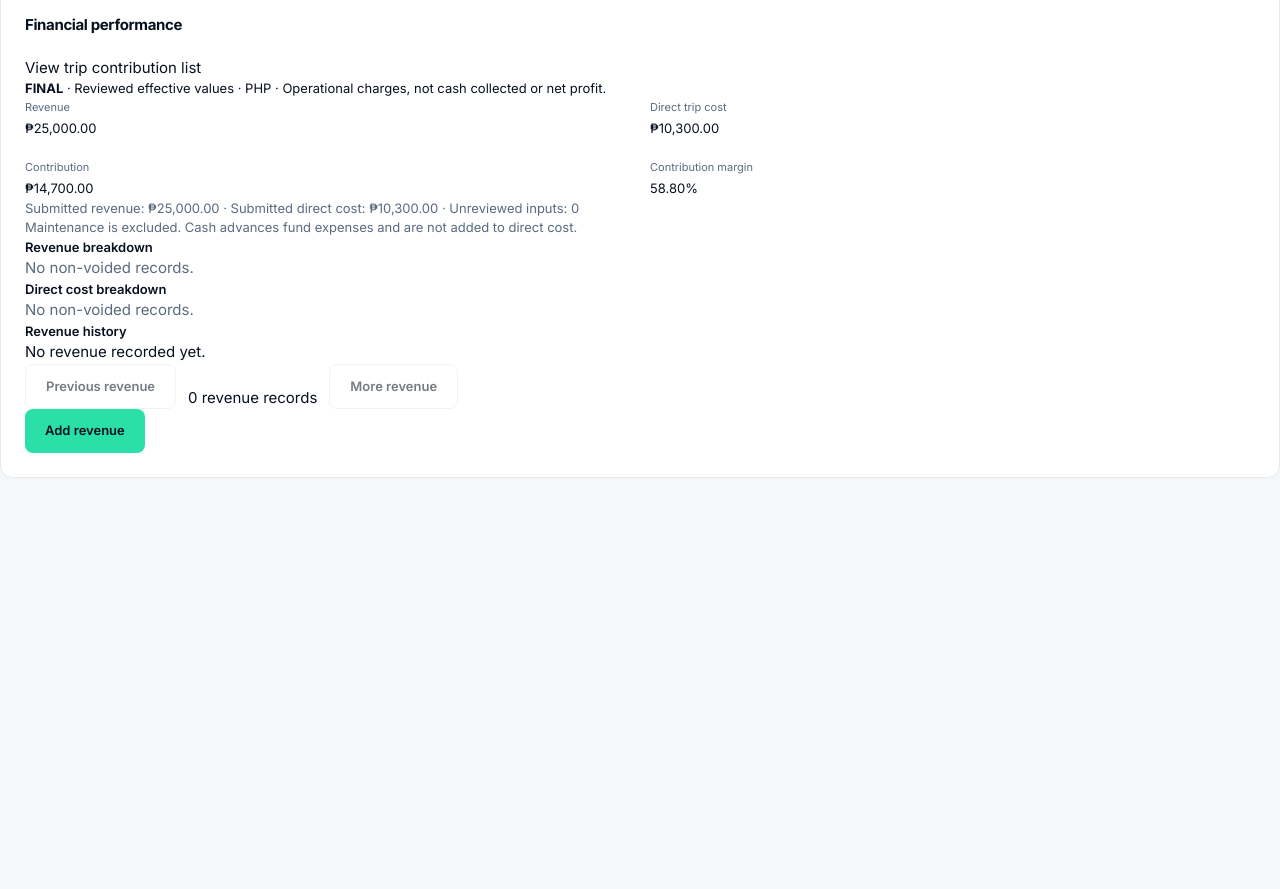
Test: server-authoritative trip contribution › validates revenue locally while preserving the approved form
The width and height of the screenshot is (1280, 889).
expect the text "No revenue recorded yet." is shown: met, box [25, 342, 206, 361]
Step 1. Click the button "Add revenue" → (85,431), box [25, 409, 145, 453]
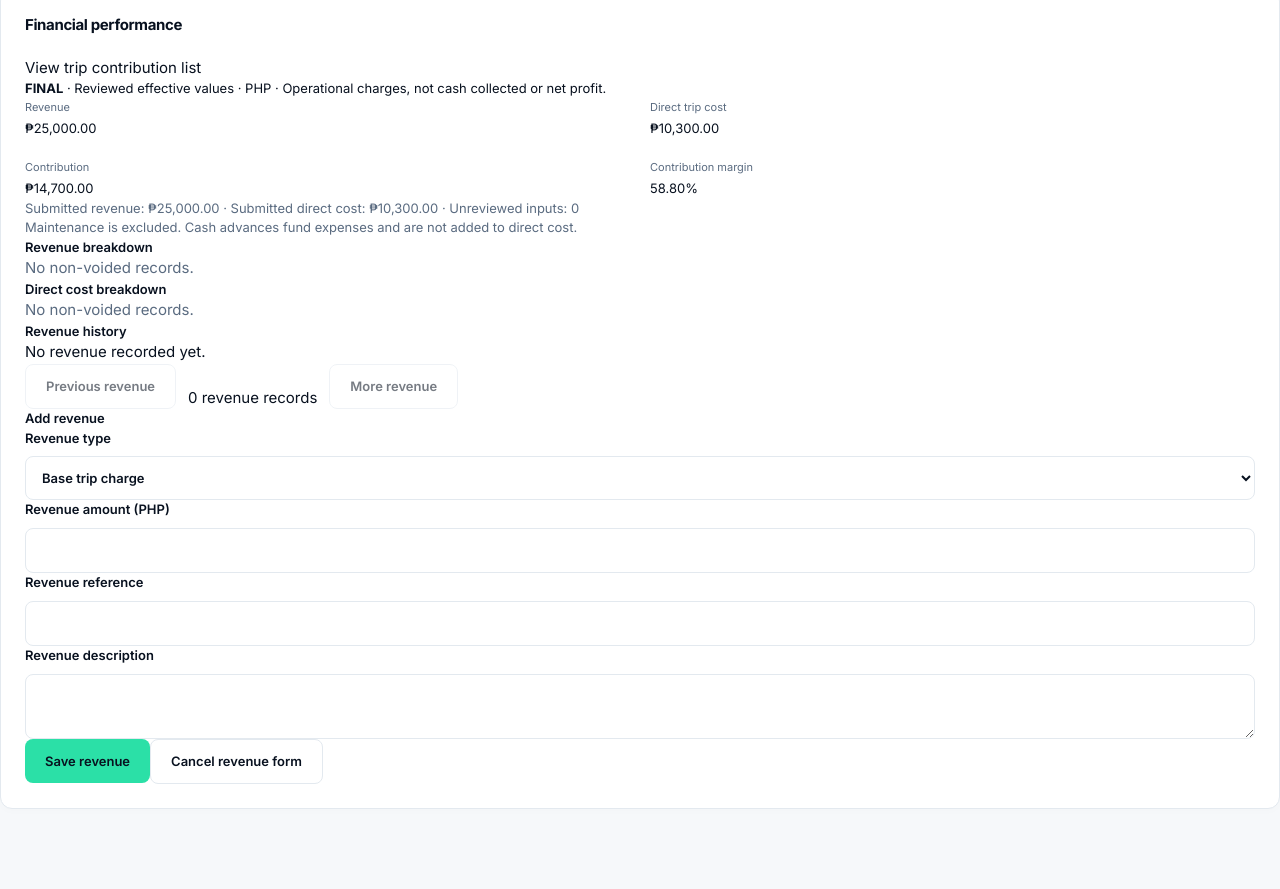
Step 2. Type "1e3" into the field labelled "Revenue amount (PHP)" → (640,550), box [25, 528, 1255, 573]
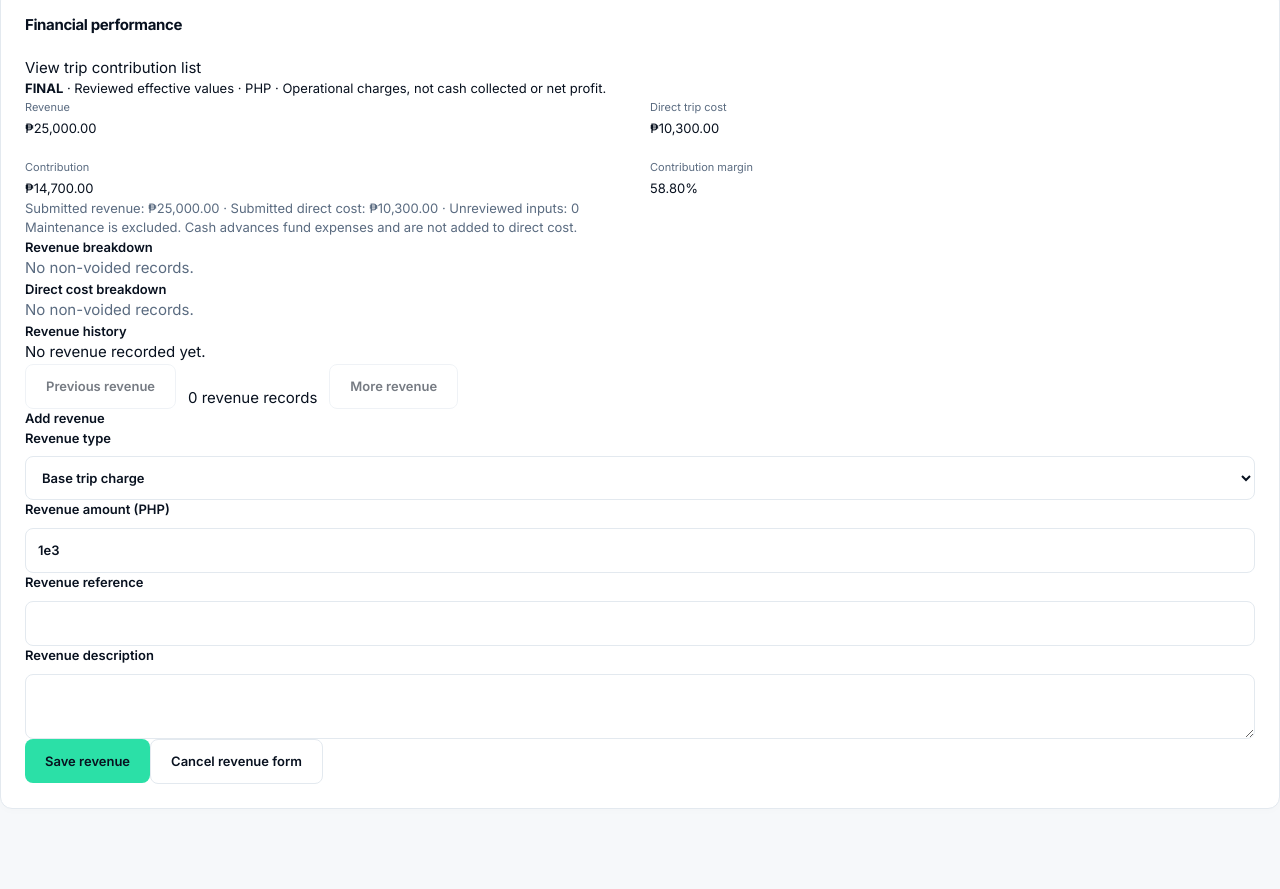
Step 3. Click the button "Save revenue" → (88,761), box [25, 739, 150, 783]
(page scrolled)
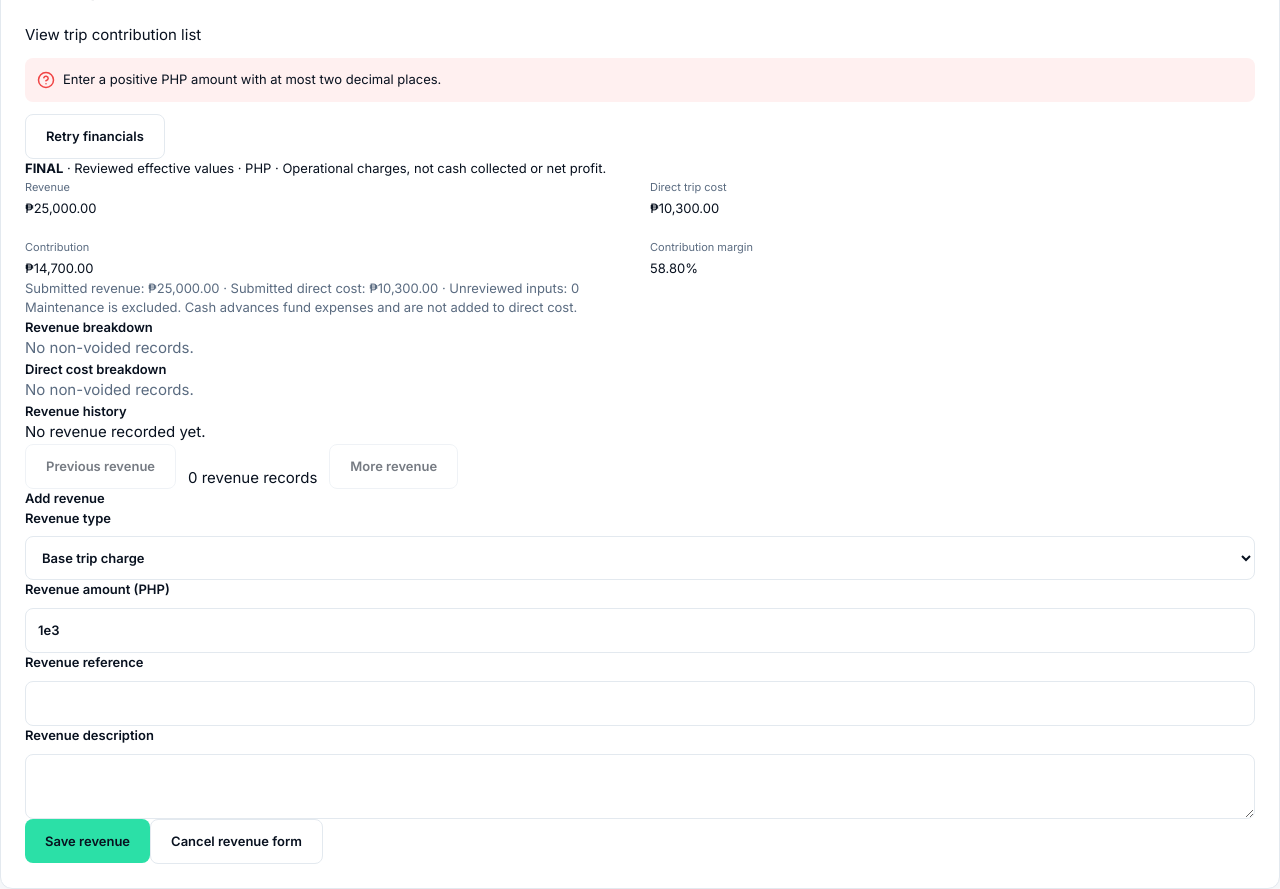
expect the text "Enter a positive PHP amount with at most two decimal places." is shown: met, box [63, 70, 441, 90]
